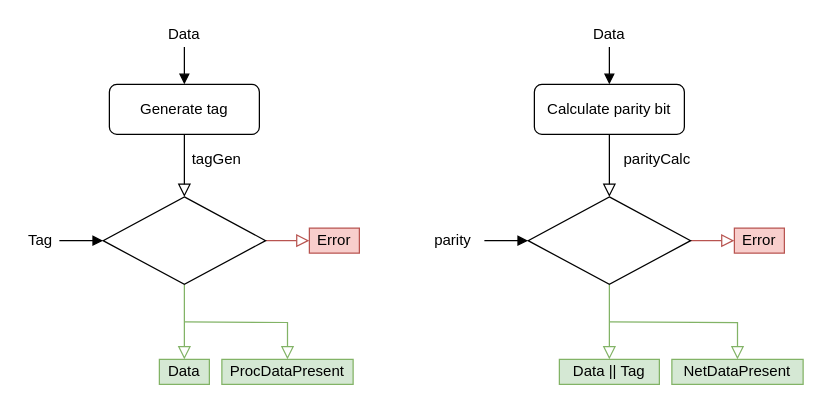
This 825x406 diagram has some shape labels left out. Here are the shapes that lost their labels. From the top down, the centre of each, then its label:
At (x=184, y=240): "tagGen = Tag?".
At (x=609, y=240): "parityCalc = parity?".
